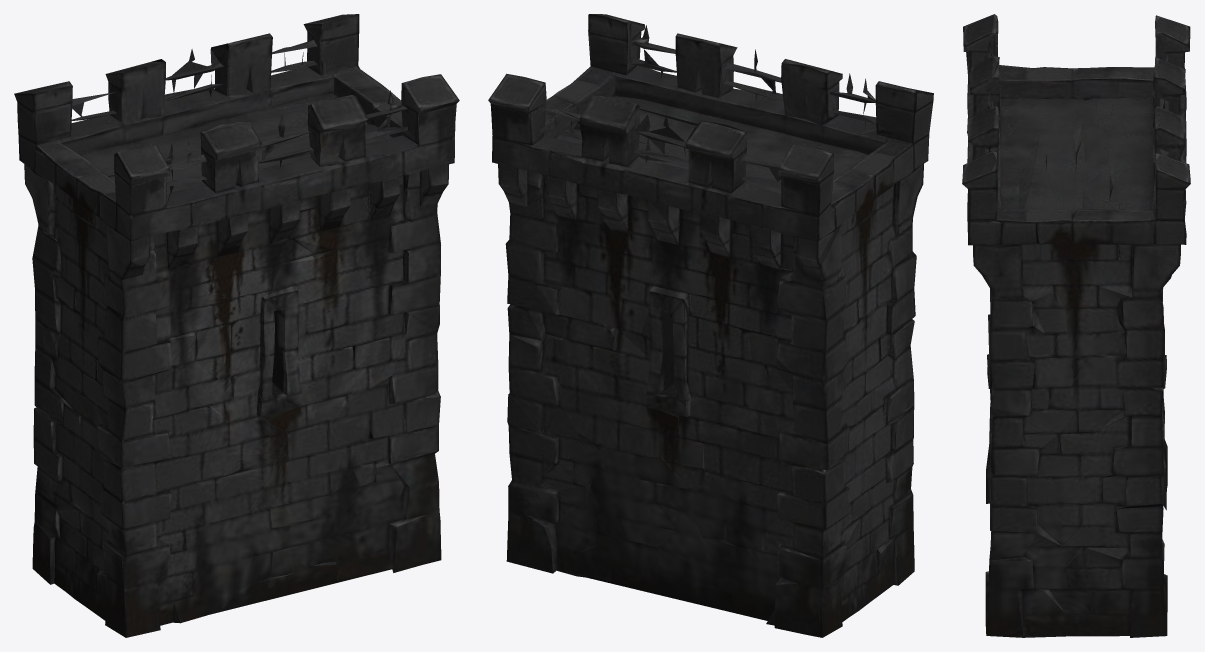
Rendered from prop-curtain-wall.glb.
3 renders of one model, left to right at view 1: azimuth 30°, elevation 25°; view 2: azimuth 150°, elevation 25°; view 3: azimuth 270°, elevation 25°, orthographic. The views are drawn at different scales.
Bounding box in the file's own units: 1.34 × 1.9 × 0.8299.
1 material, 1 textured.
